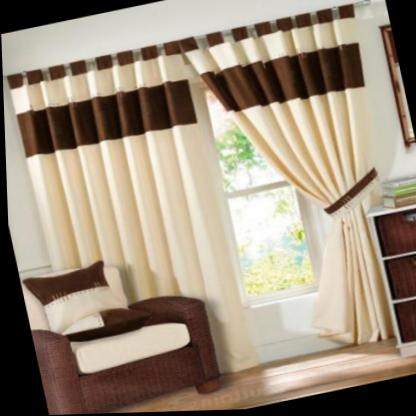Gypsum Board: (5, 0, 416, 406)
Nightstand: (372, 210, 416, 348)
